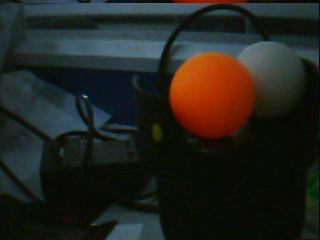oball: (169, 52, 255, 138)
